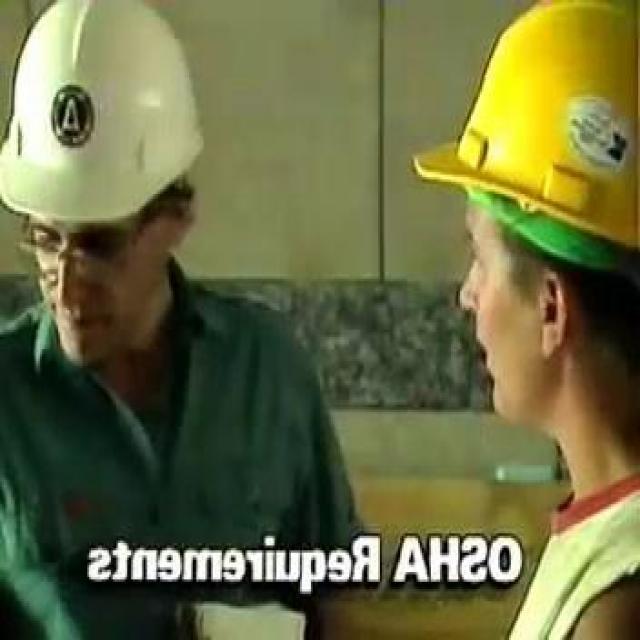Reflective-Jacket: (484, 429, 638, 640)
Safety-Helmet: (411, 5, 638, 296), (0, 5, 225, 245)
